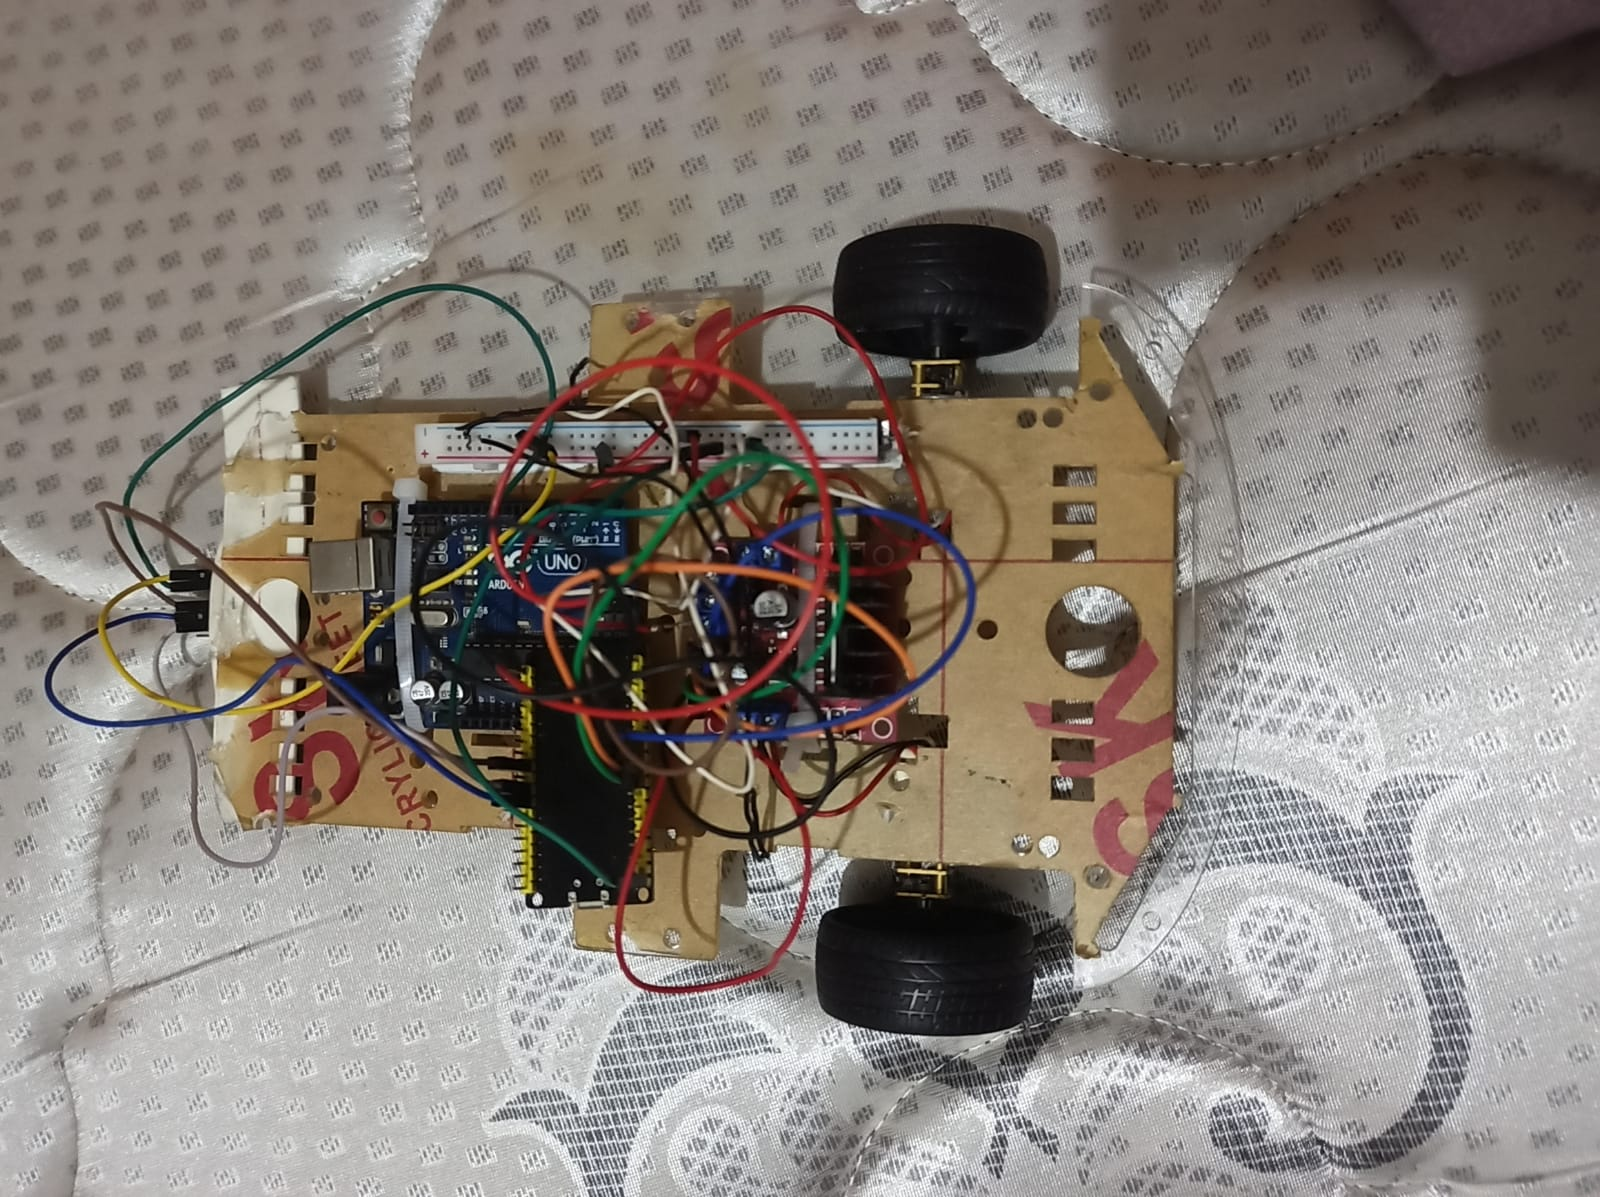Robot: (168, 223, 1248, 1036)
